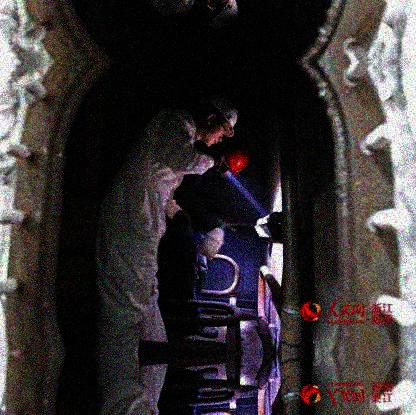helmet: (194, 91, 239, 148)
